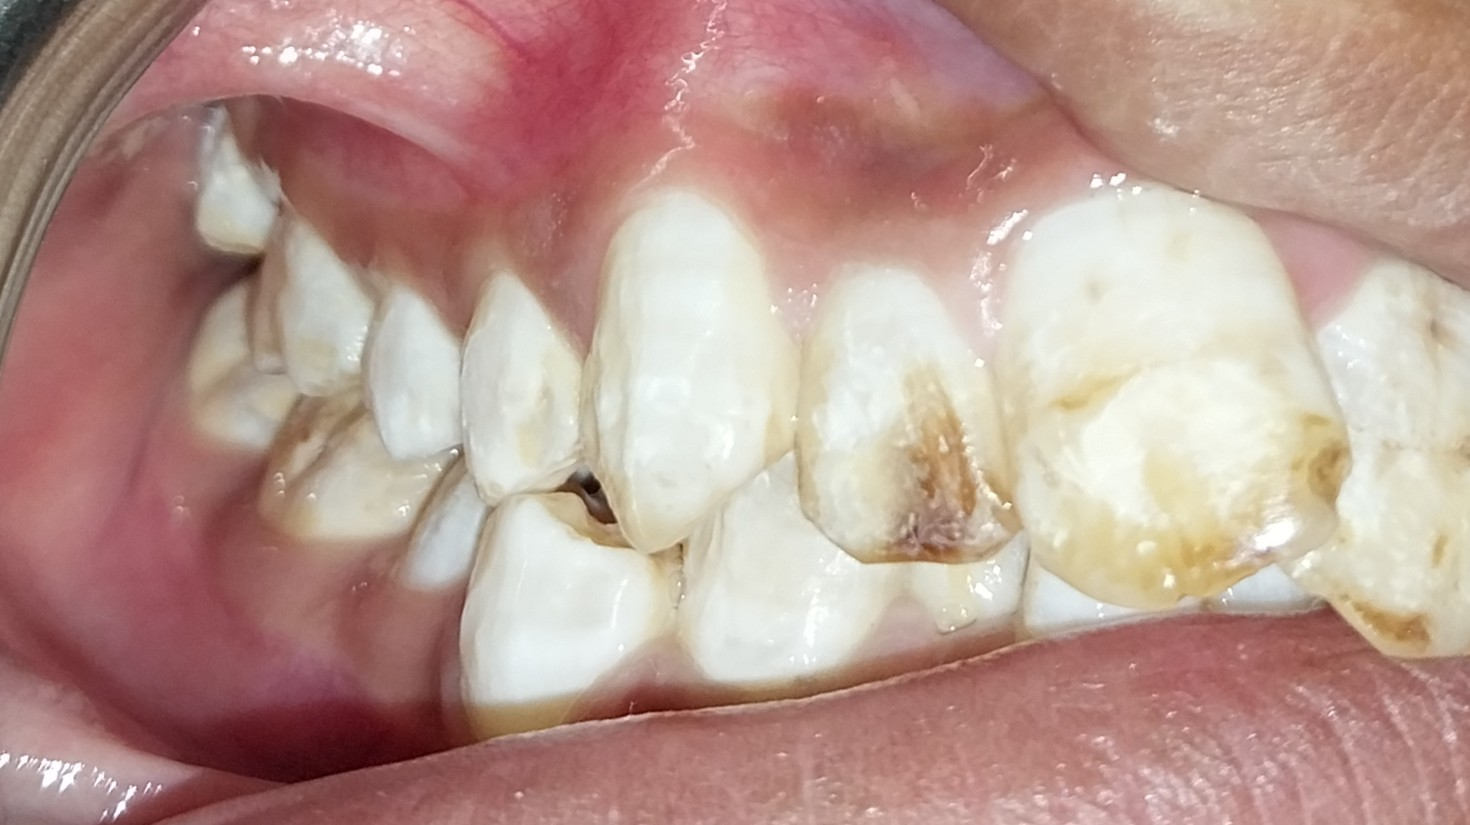D: (768, 257, 1021, 571)
